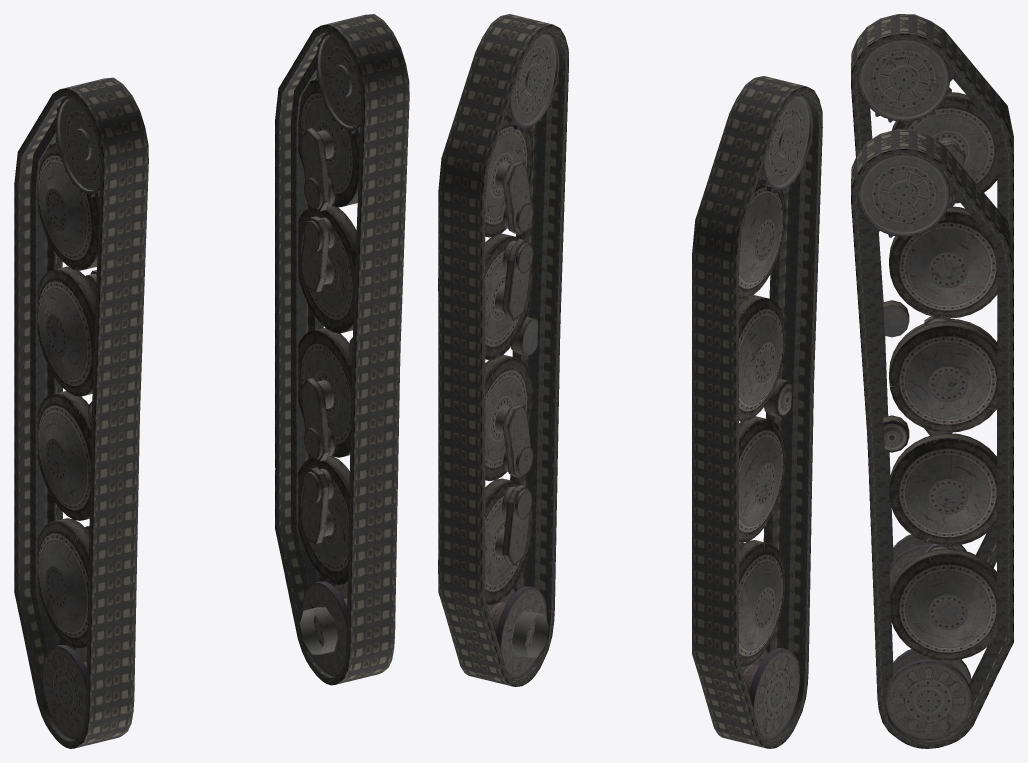
Rendered from Chassis.glb.
3 views of the same model, side by side, from view 1: azimuth 30°, elevation 25°; view 2: azimuth 150°, elevation 25°; view 3: azimuth 270°, elevation 25° (orthographic). The views are drawn at different scales.
Visible parts, largest first — view 1: set_2_group_0, set_3_group_0, set_0_group_0, set_1_group_0; view 2: set_2_group_0, set_3_group_0, set_0_group_0, set_1_group_0; view 3: set_0_group_0, set_3_group_0, set_1_group_0, set_2_group_0.
Boxes of the visible parts, left/top/right/bottom form: set_2_group_0: left=14, top=77, right=148, bottom=748; set_3_group_0: left=275, top=14, right=409, bottom=685; set_0_group_0: left=298, top=32, right=361, bottom=675; set_1_group_0: left=37, top=95, right=100, bottom=739; set_2_group_0: left=692, top=76, right=822, bottom=748; set_3_group_0: left=438, top=14, right=568, bottom=686; set_0_group_0: left=485, top=32, right=559, bottom=678; set_1_group_0: left=739, top=94, right=812, bottom=739; set_0_group_0: left=858, top=155, right=997, bottom=740; set_3_group_0: left=851, top=129, right=1013, bottom=748; set_1_group_0: left=858, top=40, right=997, bottom=589; set_2_group_0: left=851, top=14, right=1013, bottom=567.
Bounding box in the file's own units: 2.06 × 4.28 × 1.05.
4 materials, 4 textured.
